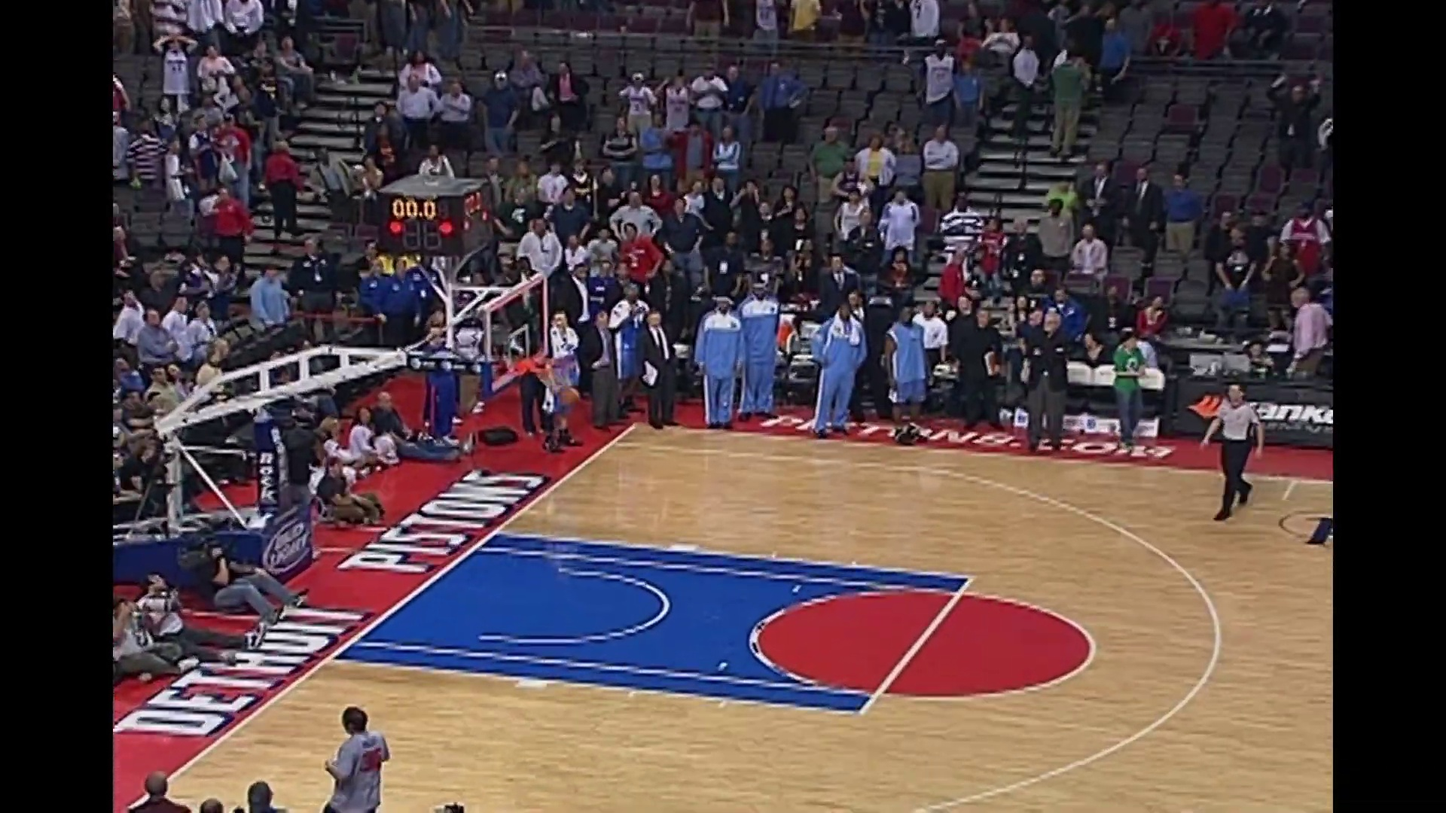basket_hoop: (421, 247, 619, 425)
